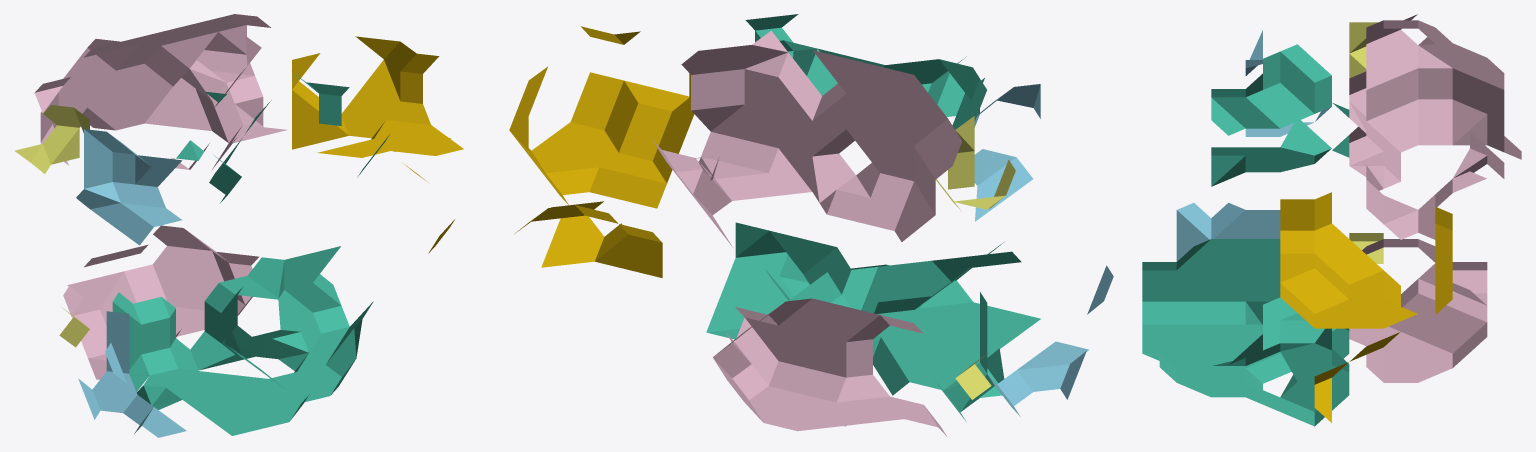
File: hypothalamic_subunits_seg.v1.glb
The picture shows the model from 3 angles, left to right: view 1: azimuth 30°, elevation 25°; view 2: azimuth 150°, elevation 25°; view 3: azimuth 270°, elevation 25°; orthographic projection. The views are drawn at different scales.
Parts seen in each view (by area): view 1: 810_R_hypothalamus_tubular_superior, 804_L_hypothalamus_tubular_inferior, 803_L_hypothalamus_posterior, 809_R_hypothalamus_tubular_inferior, 802_L_hypothalamus_anterior_superior, 807_R_hypothalamus_anterior_superior, 801_L_hypothalamus_anterior_inferior, 805_L_hypothalamus_tubular_superior, 806_R_hypothalamus_anterior_inferior; view 2: 804_L_hypothalamus_tubular_inferior, 810_R_hypothalamus_tubular_superior, 809_R_hypothalamus_tubular_inferior, 803_L_hypothalamus_posterior, 808_R_hypothalamus_posterior, 805_L_hypothalamus_tubular_superior, 807_R_hypothalamus_anterior_superior, 802_L_hypothalamus_anterior_superior, 801_L_hypothalamus_anterior_inferior, 806_R_hypothalamus_anterior_inferior; view 3: 810_R_hypothalamus_tubular_superior, 804_L_hypothalamus_tubular_inferior, 803_L_hypothalamus_posterior, 805_L_hypothalamus_tubular_superior, 809_R_hypothalamus_tubular_inferior, 807_R_hypothalamus_anterior_superior, 808_R_hypothalamus_posterior, 801_L_hypothalamus_anterior_inferior, 802_L_hypothalamus_anterior_superior, 806_R_hypothalamus_anterior_inferior.
Boxes of the visible parts, left/top/right/bottom form: 810_R_hypothalamus_tubular_superior: left=112, top=246, right=373, bottom=435; 804_L_hypothalamus_tubular_inferior: left=34, top=14, right=286, bottom=169; 803_L_hypothalamus_posterior: left=292, top=36, right=463, bottom=157; 809_R_hypothalamus_tubular_inferior: left=63, top=225, right=258, bottom=379; 802_L_hypothalamus_anterior_superior: left=76, top=129, right=182, bottom=245; 807_R_hypothalamus_anterior_superior: left=78, top=311, right=186, bottom=437; 801_L_hypothalamus_anterior_inferior: left=14, top=105, right=89, bottom=173; 805_L_hypothalamus_tubular_superior: left=176, top=73, right=389, bottom=203; 806_R_hypothalamus_anterior_inferior: left=59, top=307, right=89, bottom=347; 804_L_hypothalamus_tubular_inferior: left=652, top=30, right=962, bottom=247; 810_R_hypothalamus_tubular_superior: left=706, top=222, right=1040, bottom=422; 809_R_hypothalamus_tubular_inferior: left=713, top=298, right=946, bottom=436; 803_L_hypothalamus_posterior: left=509, top=26, right=694, bottom=208; 808_R_hypothalamus_posterior: left=515, top=201, right=662, bottom=277; 805_L_hypothalamus_tubular_superior: left=745, top=14, right=986, bottom=129; 807_R_hypothalamus_anterior_superior: left=988, top=265, right=1113, bottom=416; 802_L_hypothalamus_anterior_superior: left=974, top=84, right=1040, bottom=221; 801_L_hypothalamus_anterior_inferior: left=936, top=116, right=1015, bottom=211; 806_R_hypothalamus_anterior_inferior: left=955, top=353, right=991, bottom=399; 810_R_hypothalamus_tubular_superior: left=1142, top=239, right=1349, bottom=426; 804_L_hypothalamus_tubular_inferior: left=1349, top=14, right=1521, bottom=239; 803_L_hypothalamus_posterior: left=1280, top=192, right=1452, bottom=328; 805_L_hypothalamus_tubular_superior: left=1211, top=44, right=1349, bottom=186; 809_R_hypothalamus_tubular_inferior: left=1349, top=239, right=1487, bottom=382; 807_R_hypothalamus_anterior_superior: left=1176, top=202, right=1280, bottom=261; 808_R_hypothalamus_posterior: left=1314, top=332, right=1400, bottom=422; 801_L_hypothalamus_anterior_inferior: left=1349, top=22, right=1377, bottom=78; 802_L_hypothalamus_anterior_superior: left=1245, top=30, right=1331, bottom=136; 806_R_hypothalamus_anterior_inferior: left=1349, top=233, right=1383, bottom=263.
Bounding box in the file's own units: 14 × 10 × 11.
